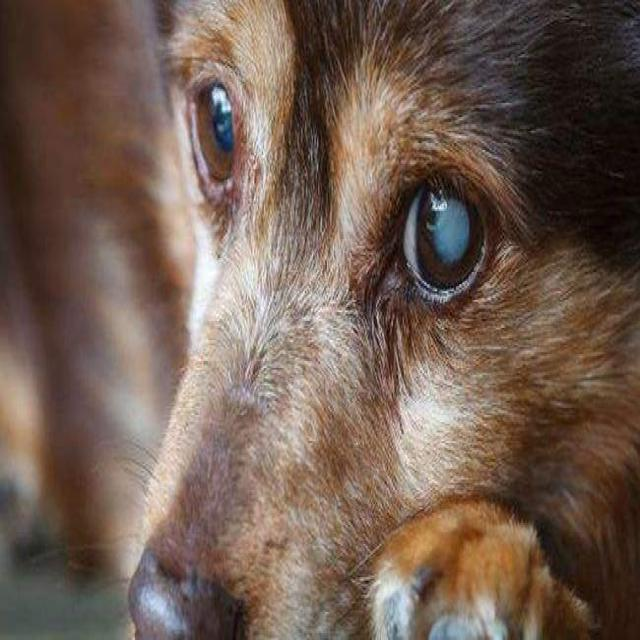eye: (393, 164, 492, 310), (186, 69, 244, 191)
